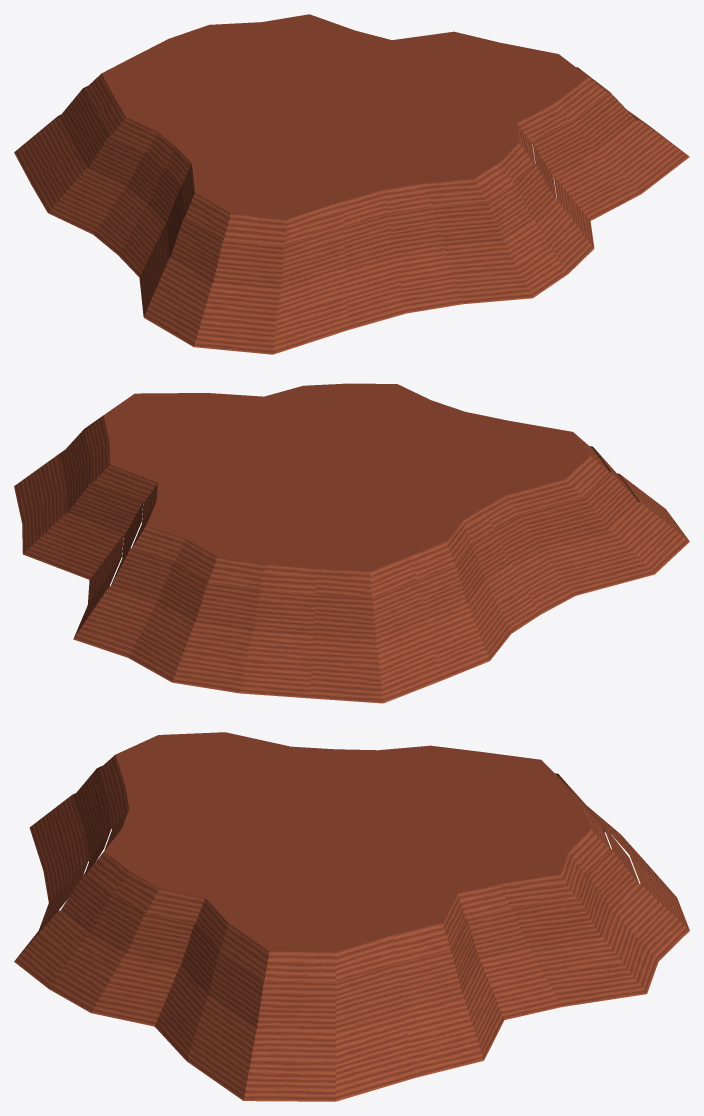
File: mesa.obj
3 views of the same model, one above another, from view 1: azimuth 30°, elevation 25°; view 2: azimuth 150°, elevation 25°; view 3: azimuth 270°, elevation 25° (orthographic). The views are drawn at different scales.
Visible parts, largest first — view 1: mesa; view 2: mesa; view 3: mesa.
Boxes of the visible parts, x1=… form: mesa: x1=14, y1=14, x2=689, y2=354; mesa: x1=14, y1=383, x2=689, y2=703; mesa: x1=14, y1=732, x2=689, y2=1101.
Size of the model in its own units: 464 by 72 by 434.
Materials: 1 (1 with a texture image).
